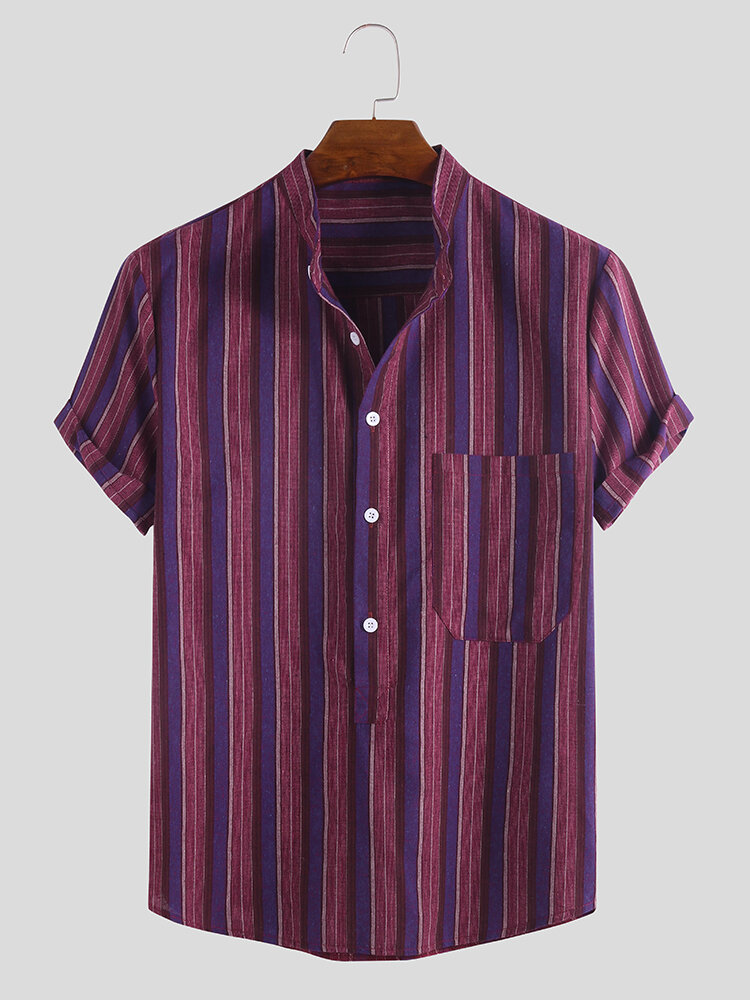striped: (52, 142, 696, 967)
